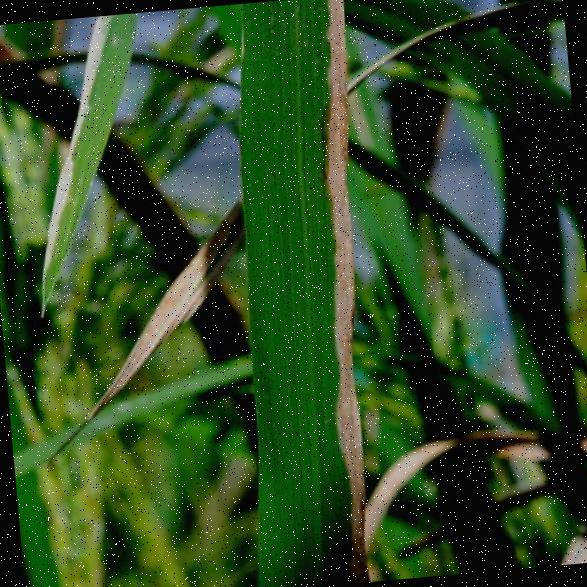Bacteria_Leaf_Blight: (294, 0, 393, 570)
